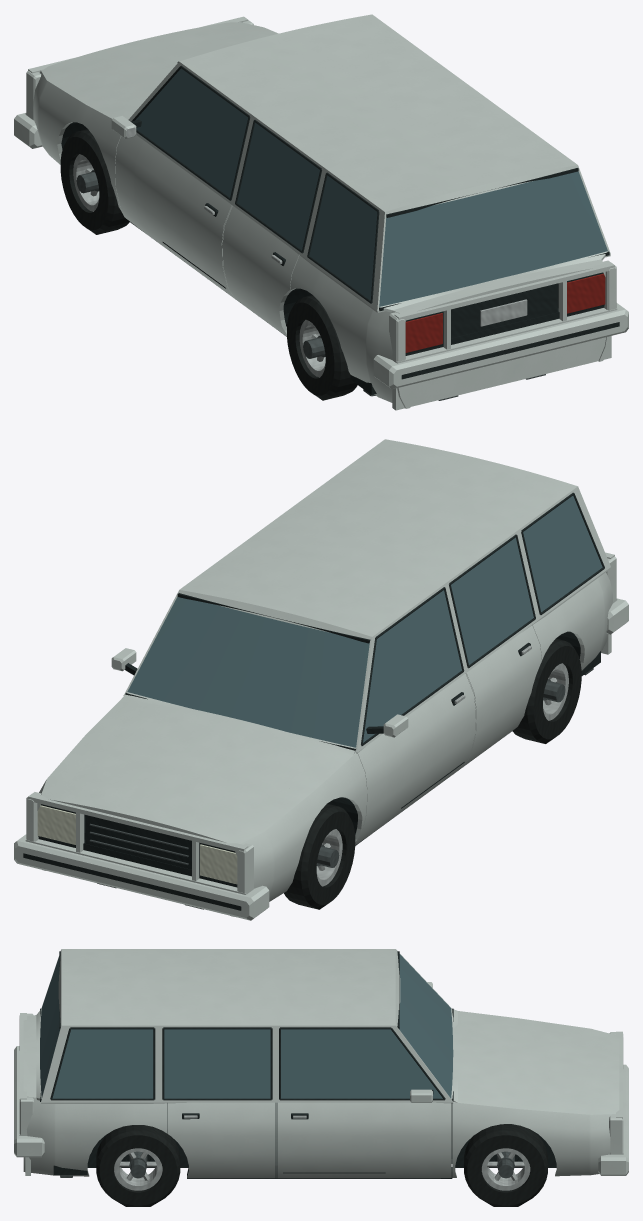
The picture shows the model from 3 angles, top to bottom: view 1: azimuth 30°, elevation 25°; view 2: azimuth 150°, elevation 25°; view 3: azimuth 270°, elevation 25°; orthographic projection. The views are drawn at different scales.
Parts seen in each view (by area): view 1: B028-04_roof_paint, B028-04_body_shell_paint.001, B028-04_glazing_glass.001, B028-04_body_shell_paint, B028-04_door_leaf_paint_front_door-1, B028-04_glazing_glass_front_door-1, B028-04_bumper_paint, B028-04_glazing_glass_rear_door-1, B028-04_door_leaf_paint_rear_door-1, B028-04_glazing_glass, B028-04_wheel_rubber_P-0.7950_-1.4300_0.3300, B028-04_wheel_rubber_P-0.7950_1.4400_0.3300 (+10 smaller); view 2: B028-04_roof_paint, B028-04_body_shell_paint.001, B028-04_glazing_glass.001, B028-04_body_shell_paint, B028-04_door_leaf_paint_front_door-1, B028-04_glazing_glass_front_door-1, B028-04_bumper_paint, B028-04_glazing_glass_rear_door-1, B028-04_door_leaf_paint_rear_door-1, B028-04_glazing_glass, B028-04_wheel_rubber_P-0.7950_1.4400_0.3300, B028-04_body_shell_dark (+10 smaller); view 3: B028-04_roof_paint, B028-04_body_shell_paint.001, B028-04_door_leaf_paint_front_door1, B028-04_body_shell_paint, B028-04_glazing_glass_front_door1, B028-04_door_leaf_paint_rear_door1, B028-04_glazing_glass_rear_door1, B028-04_glazing_glass, B028-04_glazing_glass.001, B028-04_wheel_rubber_P0.7950_1.4400_0.3300, B028-04_wheel_rubber_P0.7950_-1.4300_0.3300, B028-04_bumper_paint (+7 smaller).
Part boxes in pixels (left/top/right/bottom): B028-04_roof_paint: left=179, top=14, right=577, bottom=211; B028-04_body_shell_paint.001: left=25, top=16, right=617, bottom=410; B028-04_glazing_glass.001: left=379, top=171, right=607, bottom=306; B028-04_body_shell_paint: left=33, top=71, right=610, bottom=408; B028-04_door_leaf_paint_front_door-1: left=115, top=135, right=234, bottom=298; B028-04_glazing_glass_front_door-1: left=135, top=68, right=248, bottom=197; B028-04_bumper_paint: left=14, top=113, right=628, bottom=389; B028-04_glazing_glass_rear_door-1: left=237, top=122, right=319, bottom=250; B028-04_door_leaf_paint_rear_door-1: left=222, top=206, right=299, bottom=336; B028-04_glazing_glass: left=309, top=175, right=377, bottom=300; B028-04_wheel_rubber_P-0.7950_-1.4300_0.3300: left=287, top=295, right=357, bottom=400; B028-04_wheel_rubber_P-0.7950_1.4400_0.3300: left=60, top=129, right=129, bottom=234; B028-04_roof_paint: left=179, top=439, right=577, bottom=636; B028-04_body_shell_paint.001: left=25, top=486, right=617, bottom=894; B028-04_glazing_glass.001: left=127, top=597, right=369, bottom=747; B028-04_body_shell_paint: left=37, top=567, right=612, bottom=916; B028-04_door_leaf_paint_front_door-1: left=355, top=674, right=475, bottom=844; B028-04_glazing_glass_front_door-1: left=363, top=590, right=461, bottom=742; B028-04_bumper_paint: left=14, top=598, right=628, bottom=920; B028-04_glazing_glass_rear_door-1: left=451, top=537, right=533, bottom=664; B028-04_door_leaf_paint_rear_door-1: left=464, top=625, right=541, bottom=766; B028-04_glazing_glass: left=523, top=495, right=602, bottom=611; B028-04_wheel_rubber_P-0.7950_1.4400_0.3300: left=284, top=803, right=355, bottom=909; B028-04_body_shell_dark: left=38, top=815, right=237, bottom=887; B028-04_roof_paint: left=61, top=949, right=395, bottom=1025; B028-04_body_shell_paint.001: left=19, top=949, right=623, bottom=1175; B028-04_door_leaf_paint_front_door1: left=277, top=1100, right=451, bottom=1178; B028-04_body_shell_paint: left=23, top=1096, right=615, bottom=1178; B028-04_glazing_glass_front_door1: left=281, top=1029, right=442, bottom=1098; B028-04_door_leaf_paint_rear_door1: left=168, top=1102, right=275, bottom=1178; B028-04_glazing_glass_rear_door1: left=164, top=1029, right=270, bottom=1098; B028-04_glazing_glass: left=52, top=1029, right=153, bottom=1098; B028-04_glazing_glass.001: left=40, top=954, right=453, bottom=1098; B028-04_wheel_rubber_P0.7950_1.4400_0.3300: left=464, top=1124, right=547, bottom=1206; B028-04_wheel_rubber_P0.7950_-1.4300_0.3300: left=96, top=1125, right=180, bottom=1206; B028-04_bumper_paint: left=14, top=1046, right=628, bottom=1175.
Bounding box in the file's own units: 2.08 × 1.51 × 4.8.
9 materials, 9 textured.
